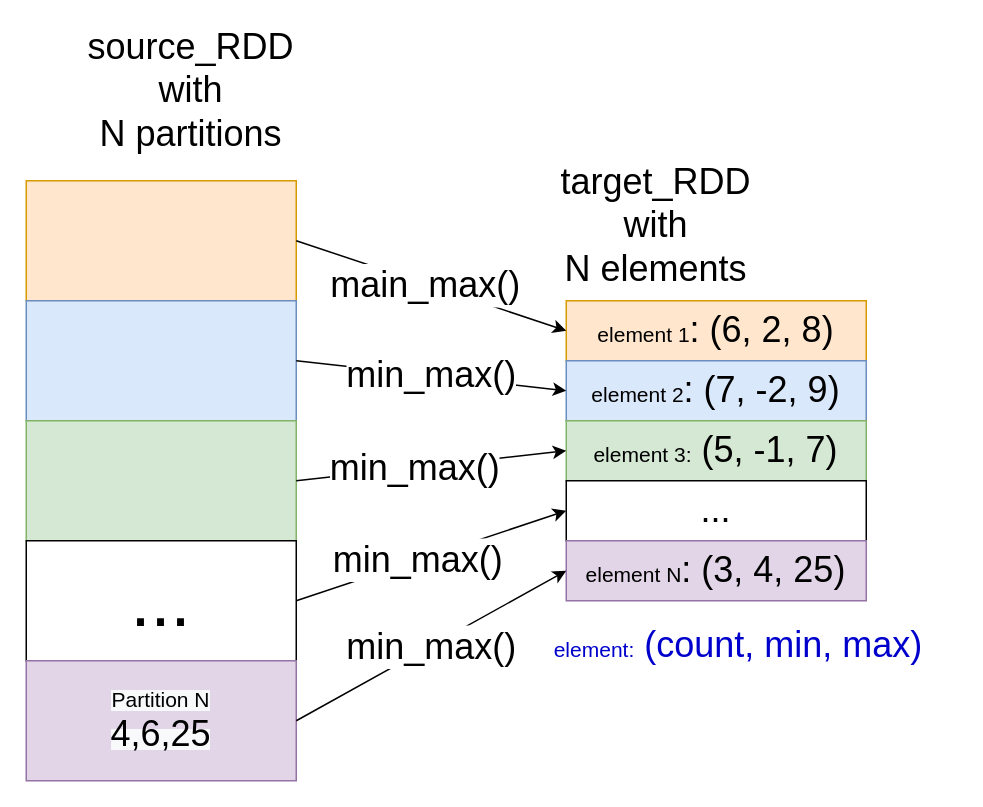
Image size: 983x807. Some labels were removed from this diagram. Each missing label, with the box of its shape:
Partition 1: 2,3,2,4,4,8: (25, 179, 296, 301)
Partition 2 -2,-2,5,6,7,9,9: (25, 299, 296, 421)
Partition 3 -1,4,6,6,7: (25, 419, 296, 541)
